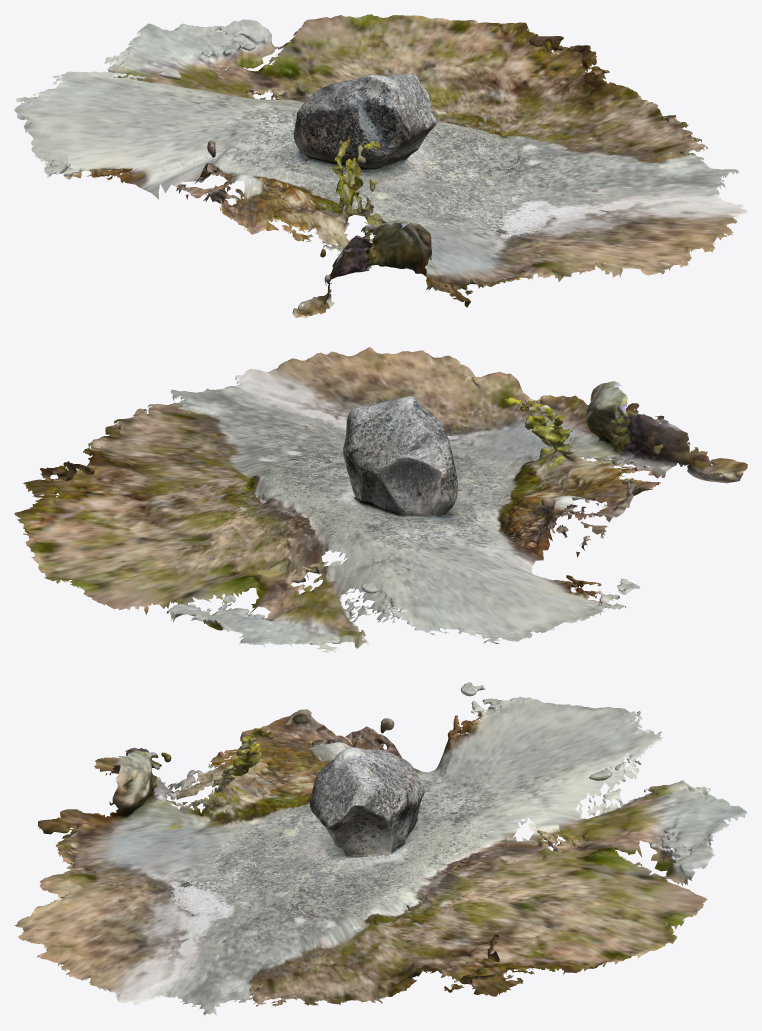
File: 20220511-1346_Gnomon.glb
The picture shows the model from 3 angles, top to bottom: view 1: azimuth 30°, elevation 25°; view 2: azimuth 150°, elevation 25°; view 3: azimuth 270°, elevation 25°; orthographic projection. The views are drawn at different scales.
Visible parts, largest first — view 1: Gnomon; view 2: Gnomon; view 3: Gnomon.
Part boxes in pixels (left/top/right/bottom): Gnomon: left=14, top=14, right=747, bottom=318; Gnomon: left=14, top=347, right=747, bottom=653; Gnomon: left=14, top=682, right=747, bottom=1015.
Size of the model in its own units: 7.71 by 1.57 by 8.37.
Materials: 1 (1 with a texture image).
